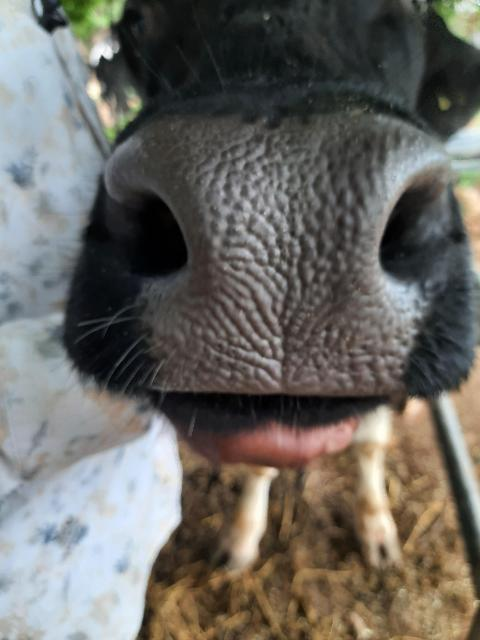Muzzle: (172, 136, 387, 392)
